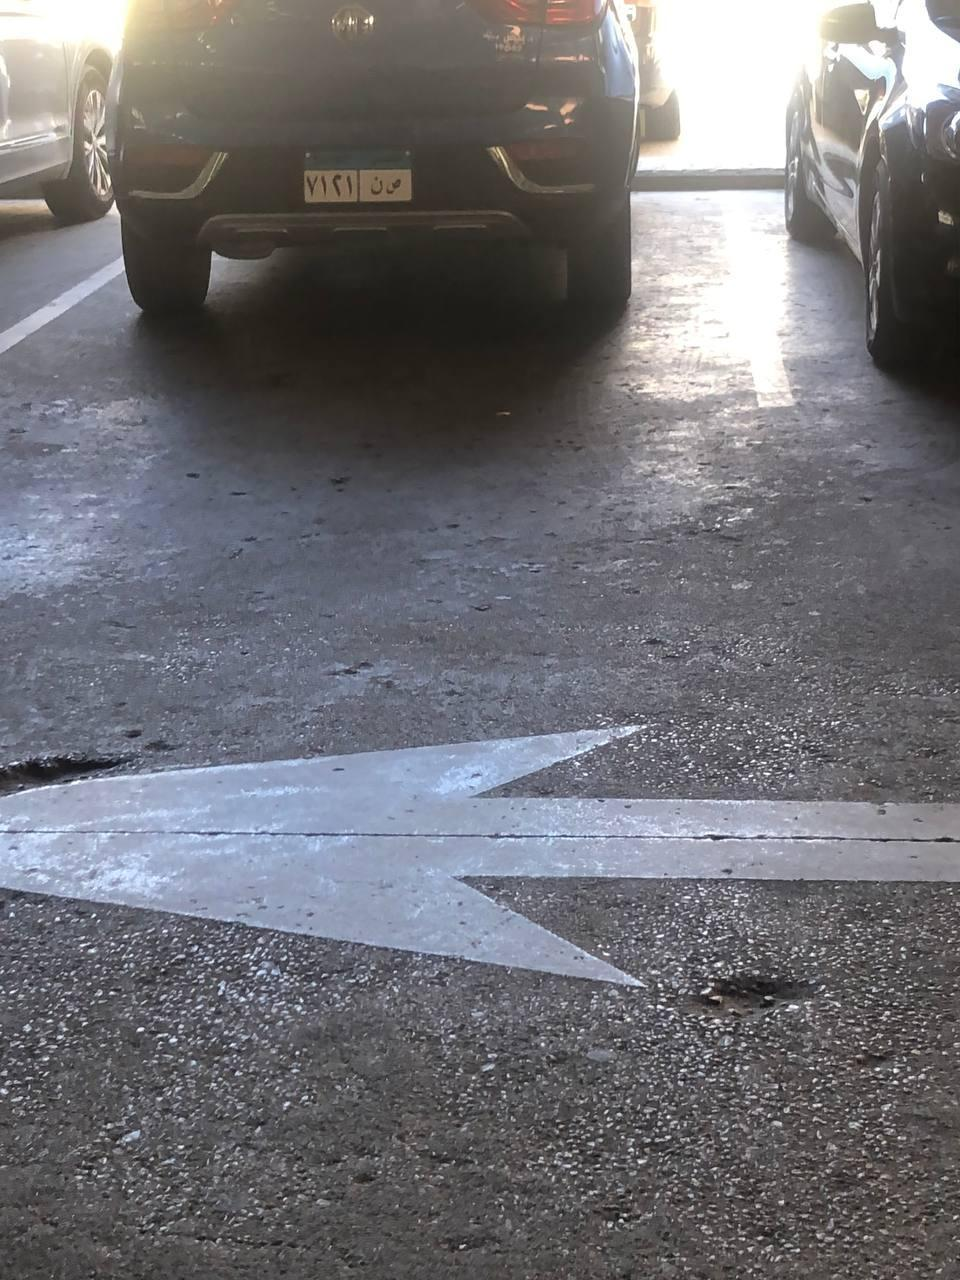1: (320, 173, 328, 197), (345, 175, 354, 195)
2: (332, 173, 346, 196)
7: (305, 173, 319, 200)
License Plate: (284, 146, 436, 208)
Noon: (368, 174, 386, 196)
Saad: (386, 176, 404, 194)
